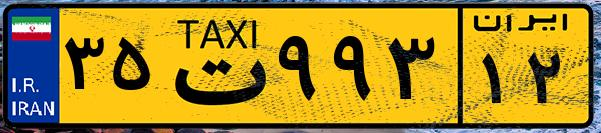1: (475, 38, 525, 113)
2: (525, 38, 570, 115)
3: (385, 28, 445, 110), (57, 26, 110, 100)
5: (110, 28, 158, 98)
9: (270, 28, 330, 110), (330, 28, 385, 110)
ت: (158, 12, 270, 120)
